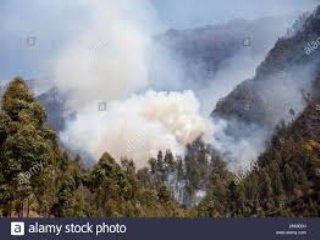smoke: (66, 22, 144, 161), (146, 85, 227, 163), (154, 174, 211, 207)
